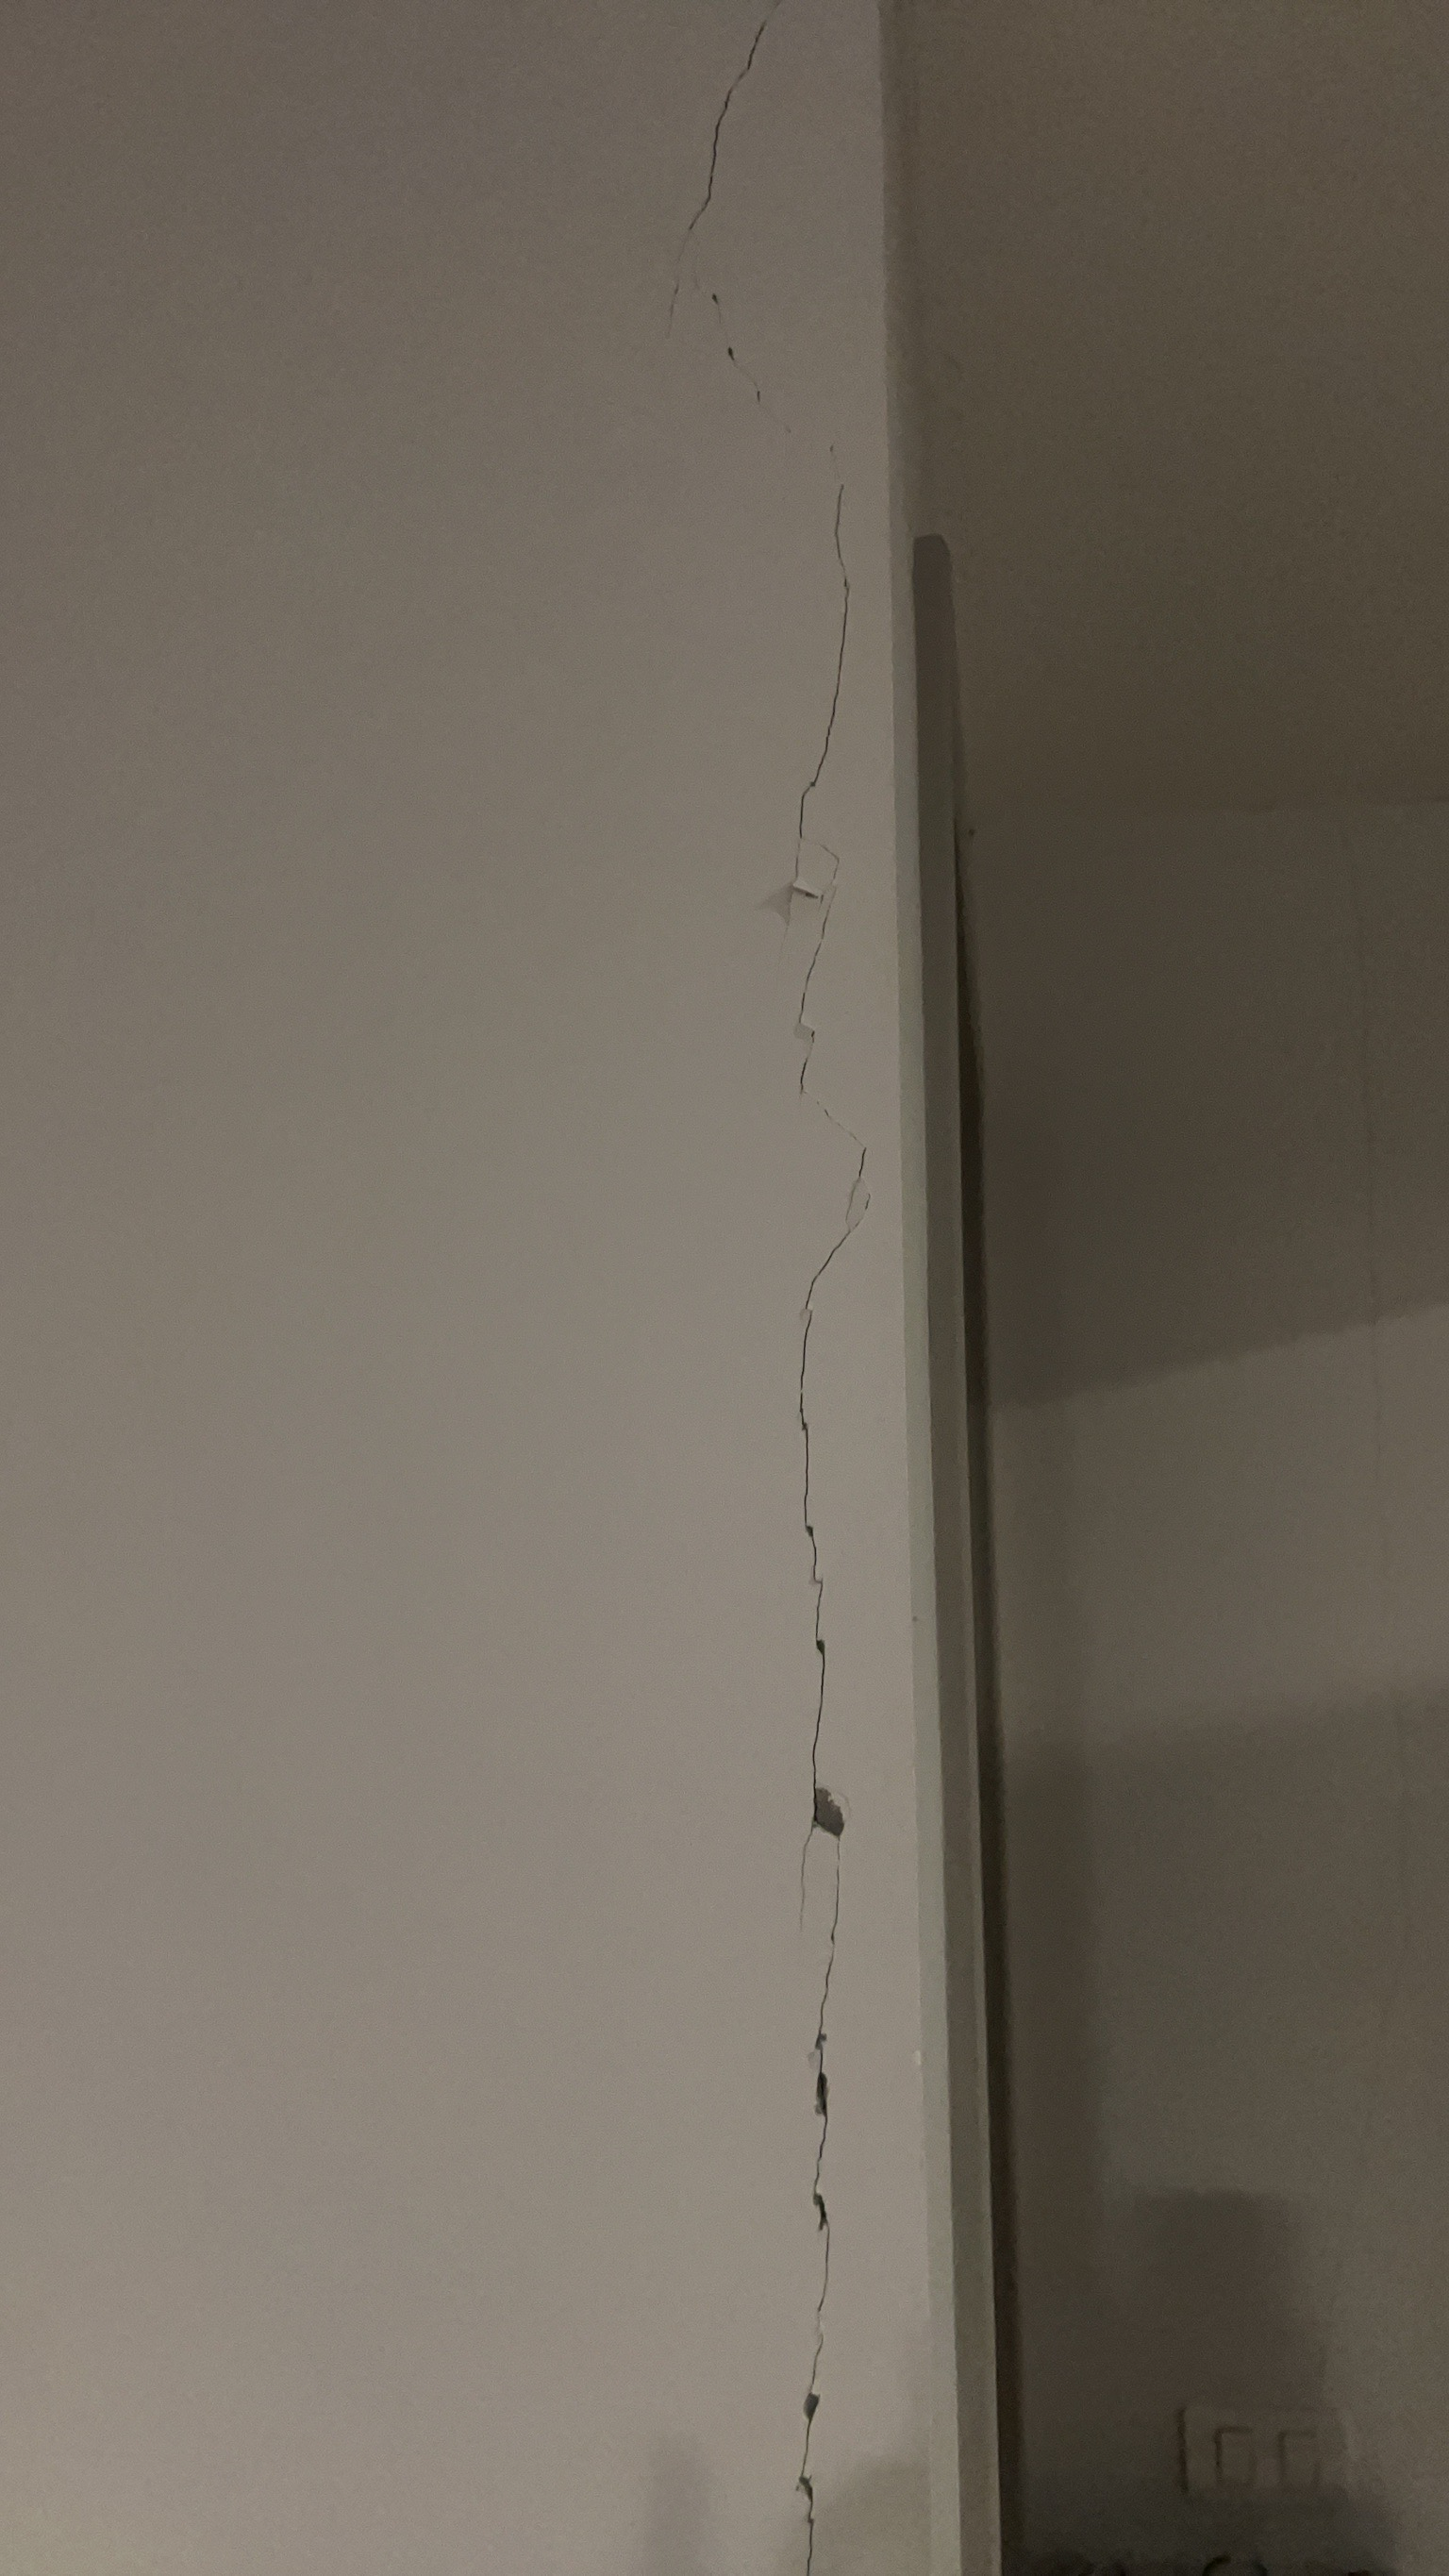Low: (617, 4, 984, 2576)
